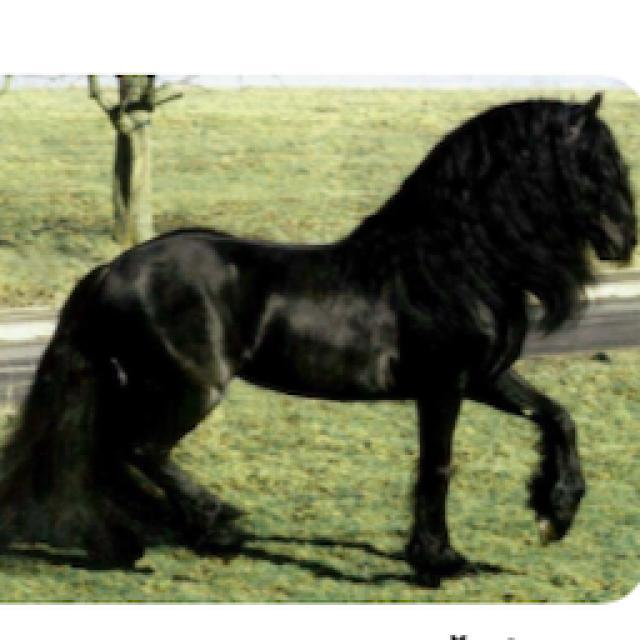Horse: (0, 85, 638, 583)
